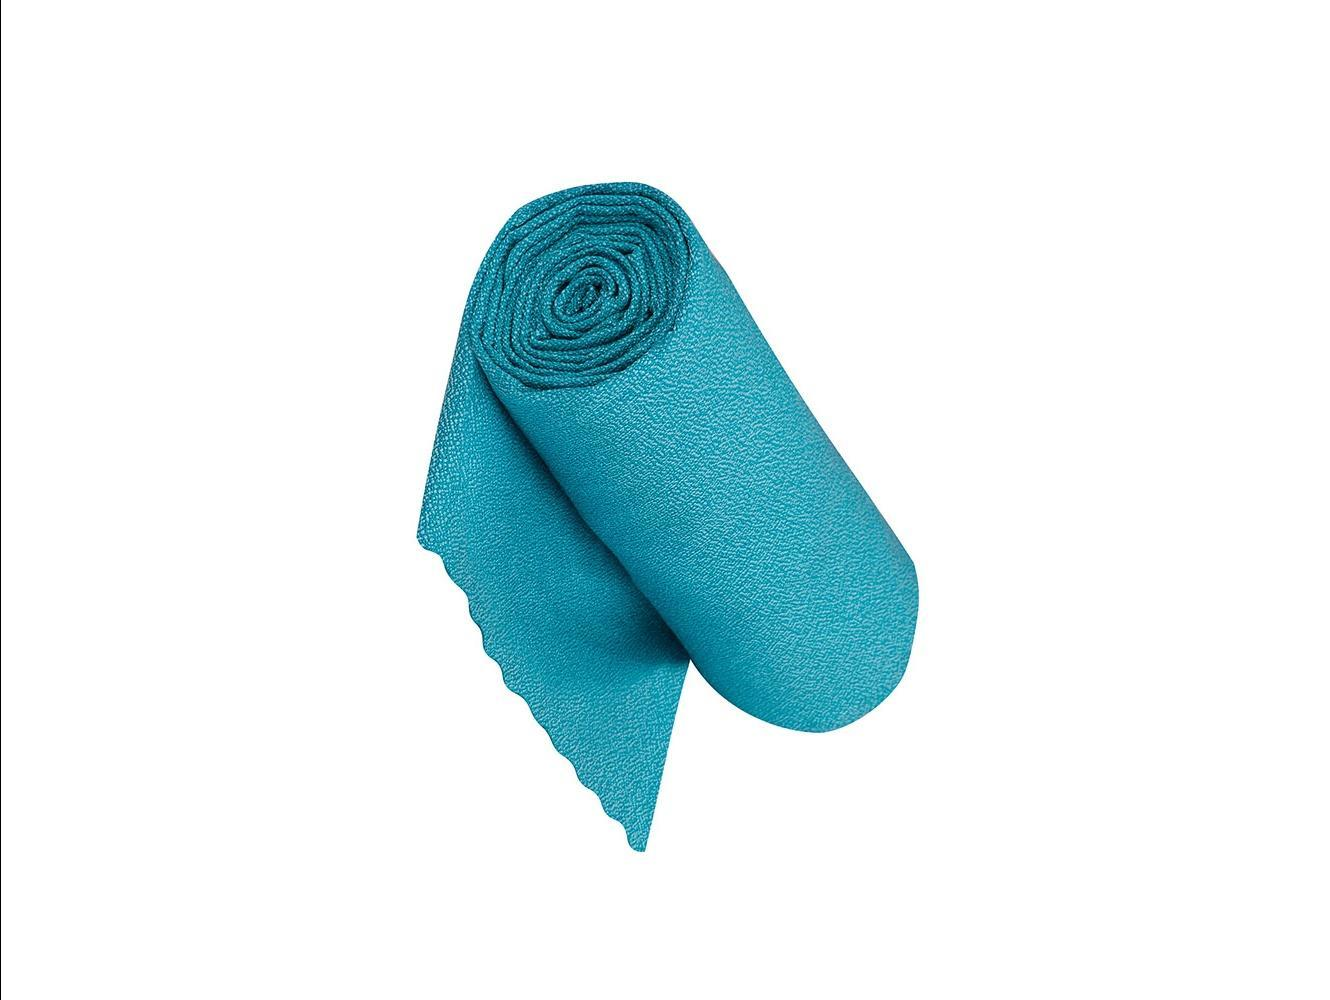towel: (380, 147, 953, 915)
